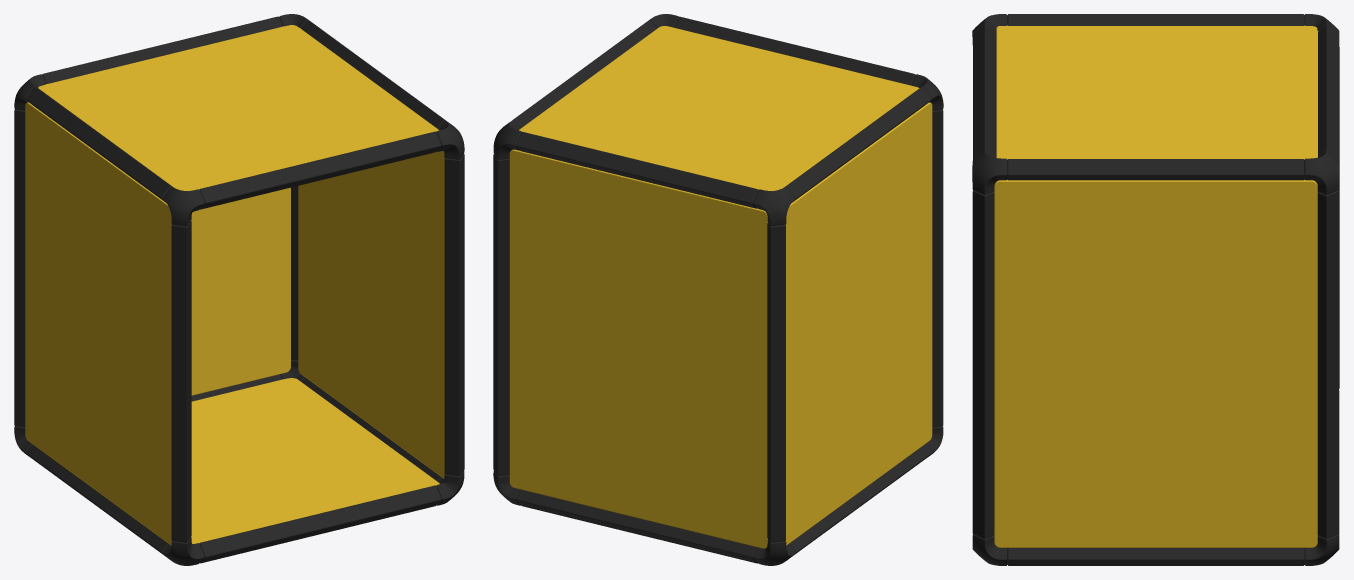
The picture shows the model from 3 angles, left to right: view 1: azimuth 30°, elevation 25°; view 2: azimuth 150°, elevation 25°; view 3: azimuth 270°, elevation 25°; orthographic projection. The views are drawn at different scales.
Parts seen in each view (by area): view 1: 329x329x420; view 2: 329x329x420; view 3: 329x329x420.
Boxes of the visible parts, bbox=[...] form: 329x329x420: bbox=[14, 14, 464, 565]; 329x329x420: bbox=[493, 14, 943, 565]; 329x329x420: bbox=[972, 14, 1339, 565].
Bounding box in the file's own units: 0.4067 × 0.4976 × 0.4063.
